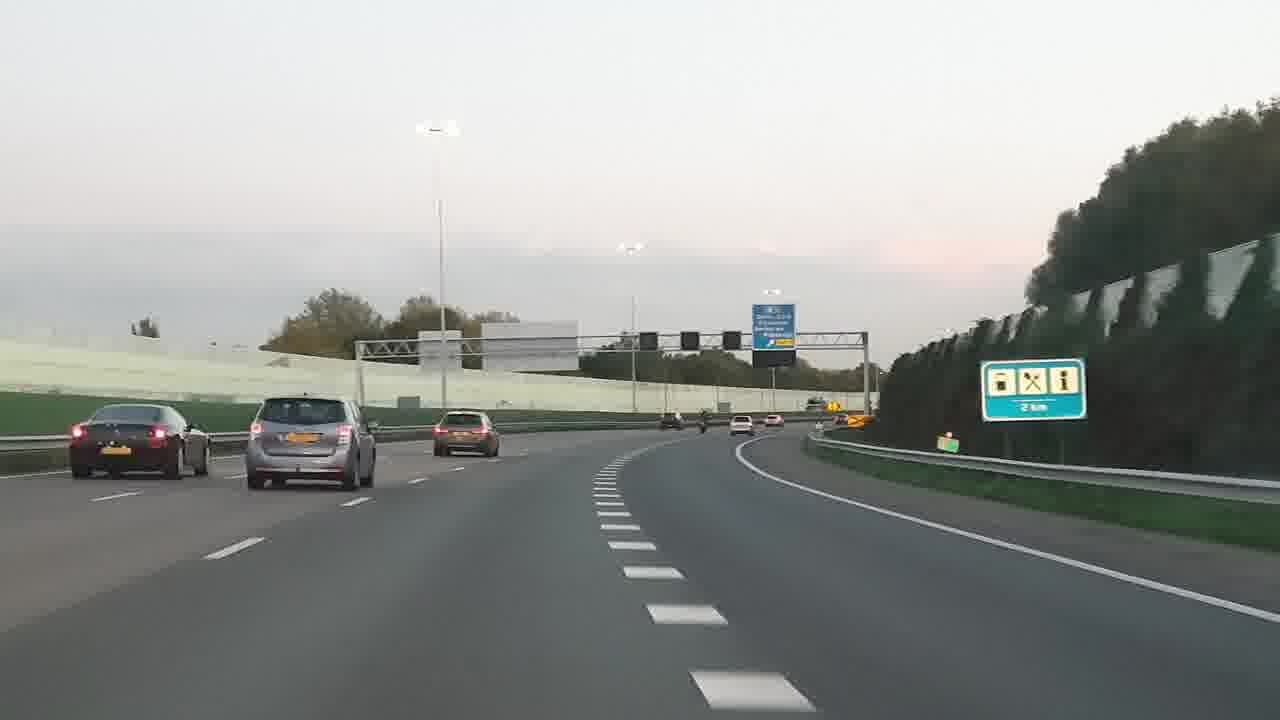car: (248, 397, 380, 492), (75, 410, 209, 476), (433, 411, 501, 460)
